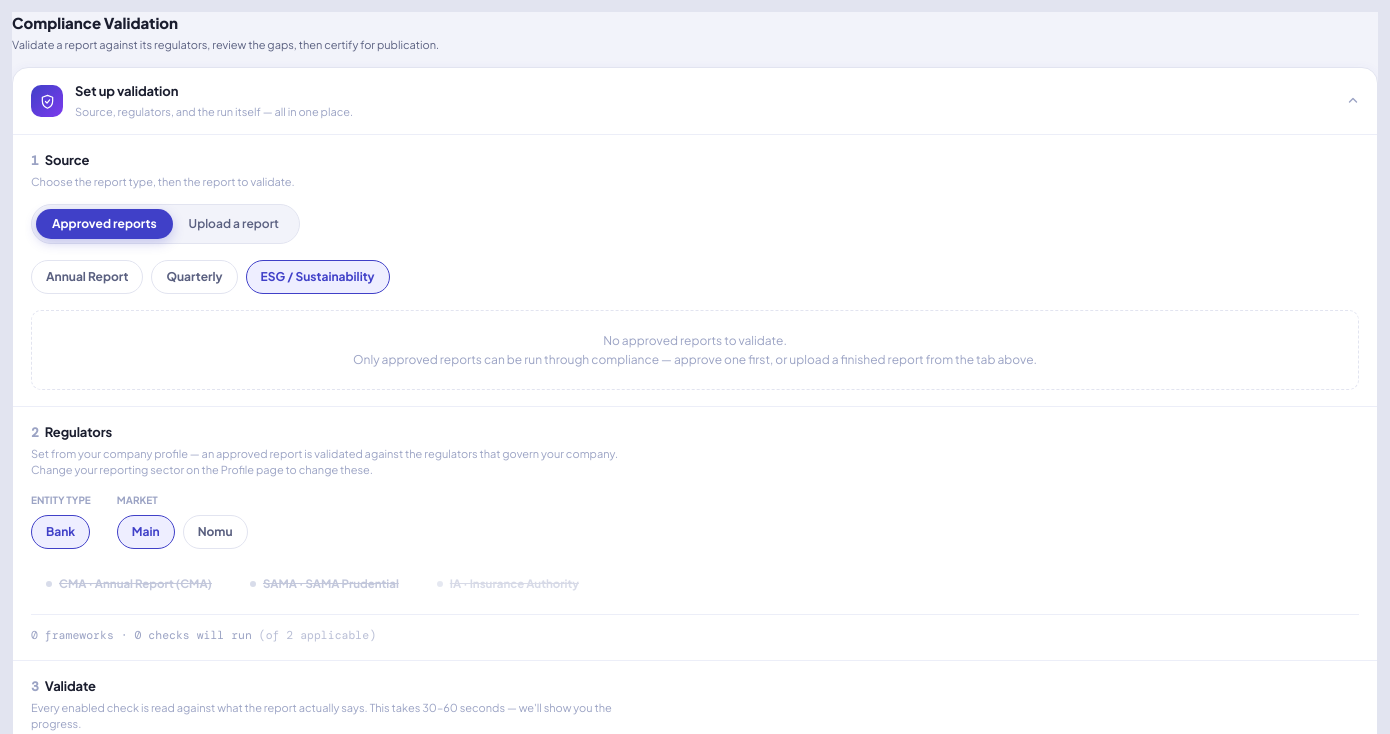
regulators locked by company profile › leaves the pickers editable on the upload tab
Check: the button "Bank" is shown, box [31, 515, 90, 549]
What coordinates should you click on to do the following:
click the button "Upload a report"
I would click on:
 (234, 224)
Its box is [173, 209, 295, 239].
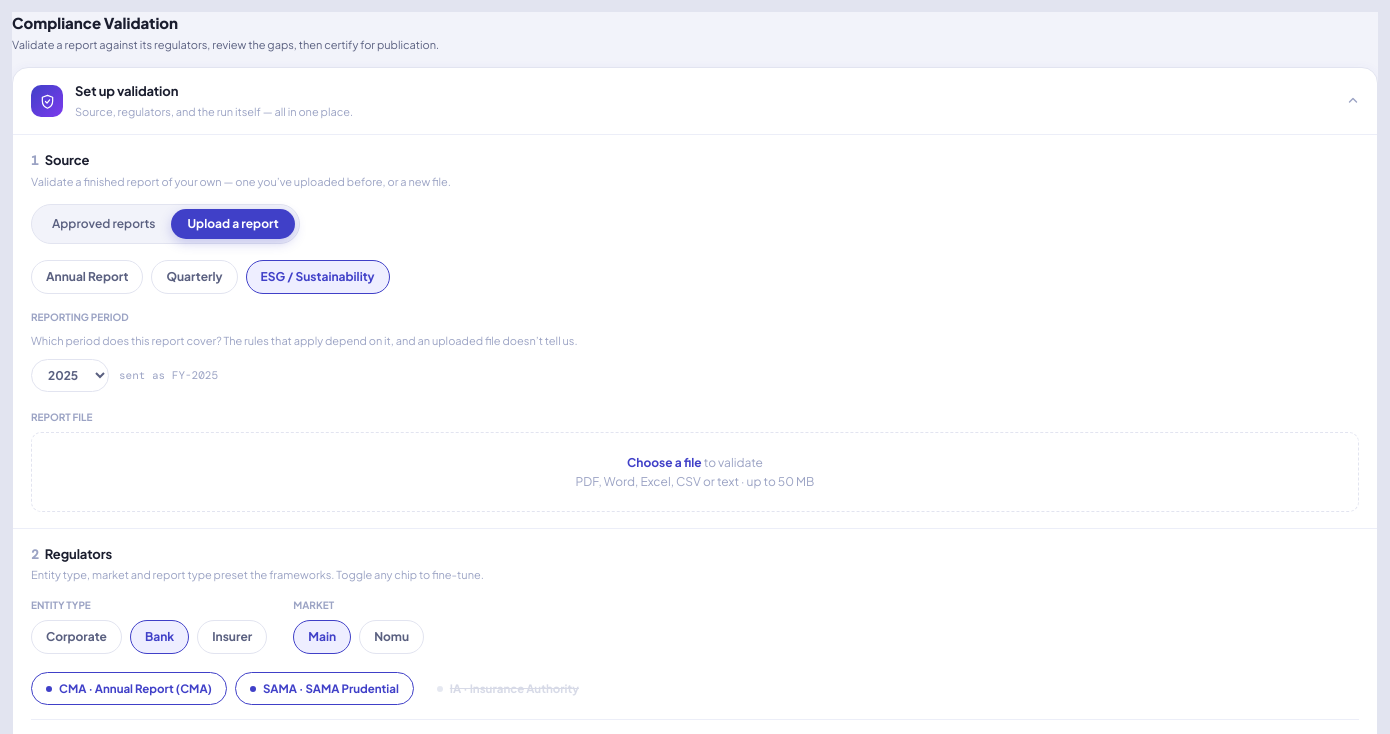
Check: the button "Corporate" is shown, box [31, 620, 122, 654]
Check: the button "Insurer" is shown, box [197, 620, 267, 654]
Check: the button "SAMA · SAMA Prudential" is enabled, box [235, 672, 414, 705]
